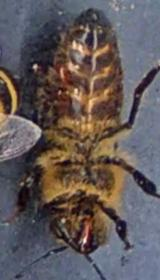varroa_mite: (53, 59, 73, 86)
